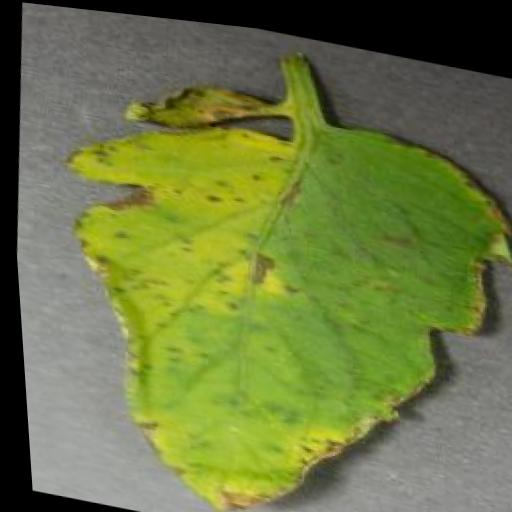Bacterial Spot: (26, 45, 512, 512)
